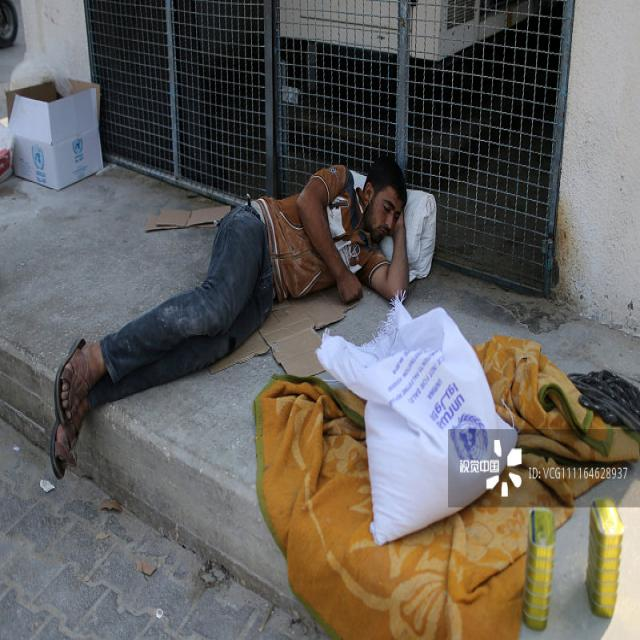fall: (47, 153, 406, 482)
